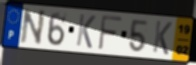5: (129, 19, 150, 53)
6: (46, 11, 67, 48)
F: (96, 14, 124, 52)
K: (151, 20, 174, 57), (75, 13, 97, 50)
N: (19, 8, 47, 46)
